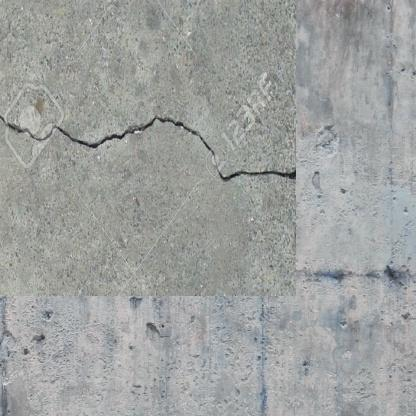Cracks: (0, 98, 273, 172)
